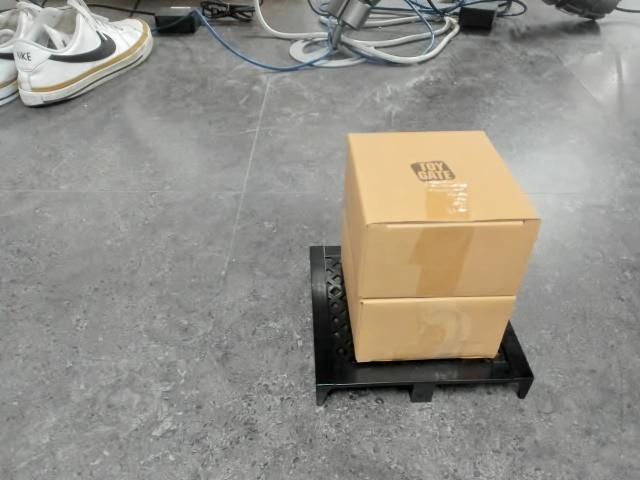box: (309, 133, 537, 400)
